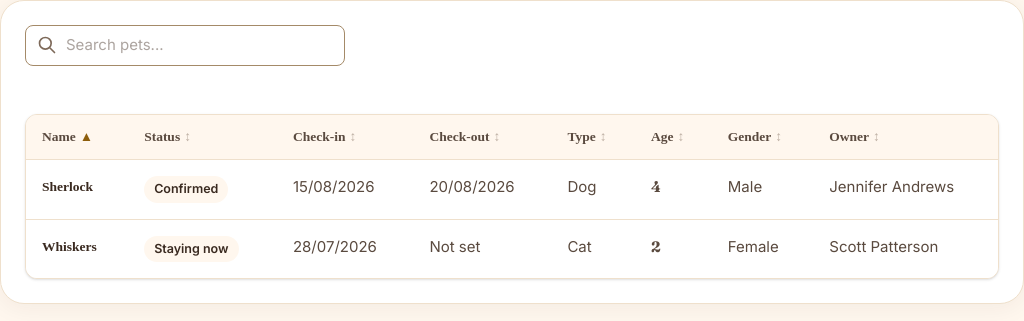
Test: PetListPage › filters the list by name as the user types in the search bar
Expected: the button "Sherlock" is shown, left=42, top=177, right=93, bottom=197
Type "Sherlock" into the field labelled "Search pets" at (185, 45), box left=25, top=25, right=345, bottom=66
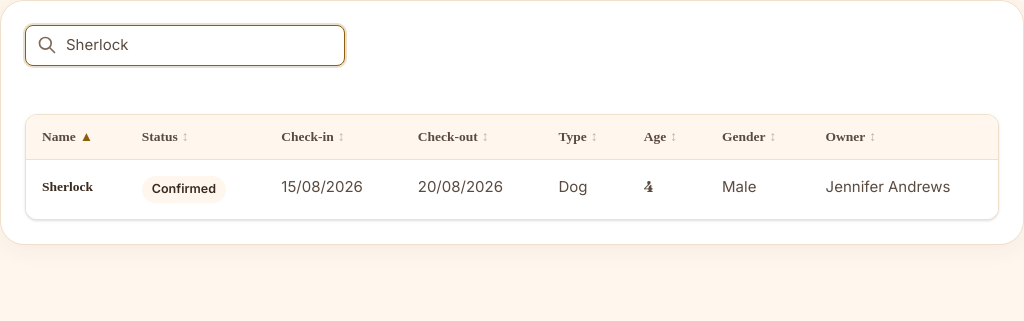
Expected: the button "Sherlock" is shown, left=42, top=177, right=93, bottom=197
Now the button "Whiskers" is gone
